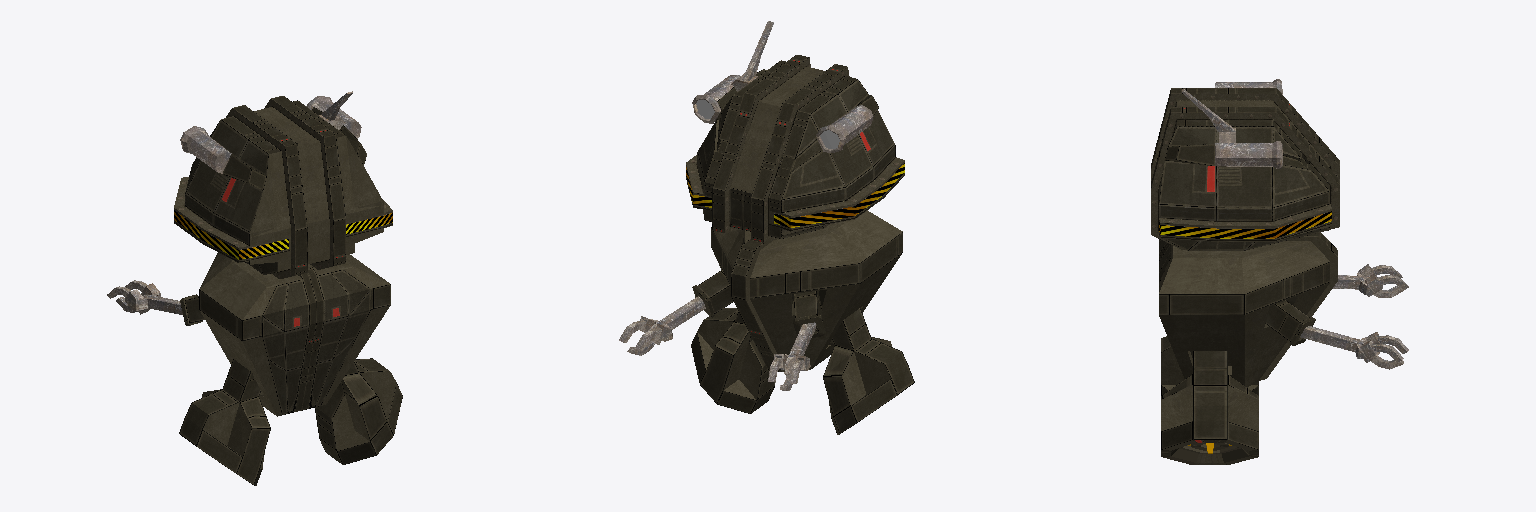
3 views of the same model, side by side, from view 1: azimuth 30°, elevation 25°; view 2: azimuth 150°, elevation 25°; view 3: azimuth 270°, elevation 25° (orthographic).
Parts seen in each view (by area): view 1: Cube, Cube.001, Cube.003_Cube.005, Cube.002, Cube.011_Cube.012; view 2: Cube, Cube.001, Cube.003_Cube.005, Cube.002, Cube.005_Cube.006, Cube.006_Cube.007, Cube.010_Cube.011, Cube.011_Cube.012, Cube.004; view 3: Cube, Cube.001, Cube.002, Cube.005_Cube.006, Cube.006_Cube.007, Cube.003_Cube.005, Cube.011_Cube.012, Cube.004.
Part boxes in pixels (x1,y1,x2,y2): Cube: (174, 96, 392, 278); Cube.001: (199, 253, 390, 416); Cube.003_Cube.005: (179, 359, 270, 485); Cube.002: (315, 358, 402, 464); Cube.011_Cube.012: (125, 283, 182, 314); Cube: (686, 55, 904, 242); Cube.001: (711, 210, 902, 371); Cube.003_Cube.005: (823, 308, 914, 434); Cube.002: (691, 308, 774, 413); Cube.005_Cube.006: (692, 270, 733, 317); Cube.006_Cube.007: (640, 296, 705, 344); Cube.010_Cube.011: (793, 291, 825, 337); Cube.011_Cube.012: (774, 322, 815, 375); Cube.004: (731, 21, 773, 91); Cube: (1151, 79, 1339, 250); Cube.001: (1159, 232, 1337, 387); Cube.002: (1161, 351, 1258, 464); Cube.005_Cube.006: (1265, 300, 1315, 345); Cube.006_Cube.007: (1300, 326, 1379, 362); Cube.003_Cube.005: (1161, 336, 1258, 395); Cube.011_Cube.012: (1333, 264, 1382, 296); Cube.004: (1182, 89, 1235, 142).
Bounding box in the file's own units: 2.78 × 4.84 × 3.01.
6 materials, 4 textured.